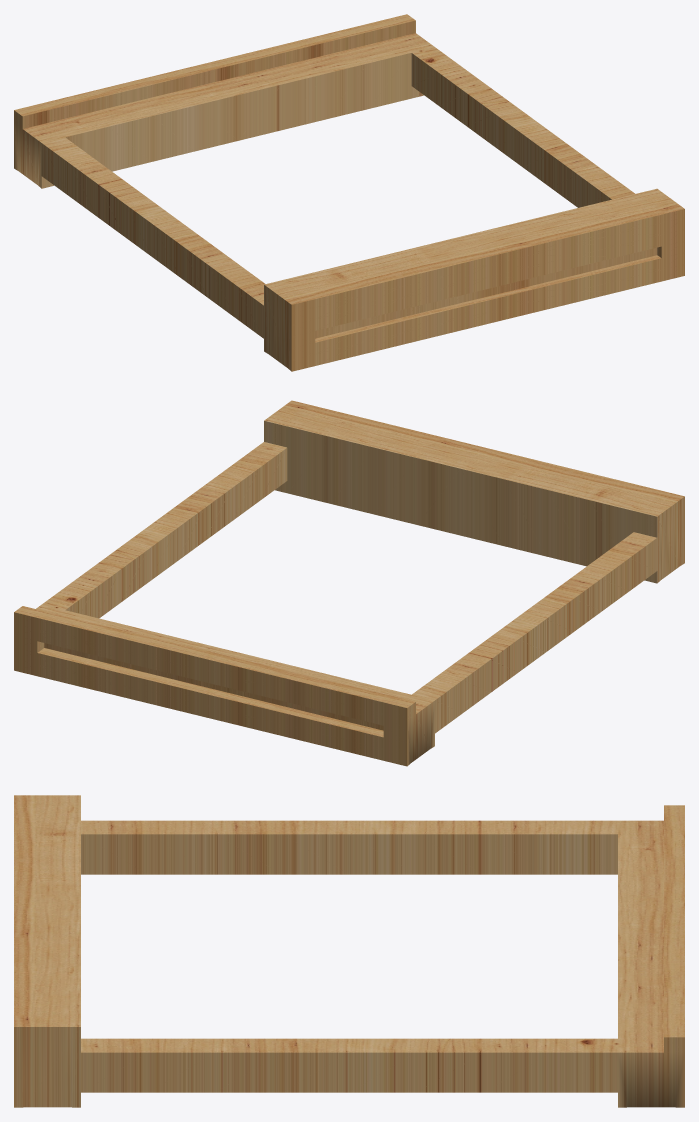
Rendered from frame.obj.
The picture shows the model from 3 angles, top to bottom: view 1: azimuth 30°, elevation 25°; view 2: azimuth 150°, elevation 25°; view 3: azimuth 270°, elevation 25°; orthographic projection. The views are drawn at different scales.
Visible parts, largest first — view 1: Frame; view 2: Frame; view 3: Frame.
Boxes of the visible parts, box(x1,y1,x2,y2) form: Frame: box(14, 14, 684, 371); Frame: box(14, 400, 684, 766); Frame: box(14, 795, 684, 1107).
Bounding box in the file's own units: 6.44 × 1.05 × 7.87.
Materials: 1 (1 with a texture image).
